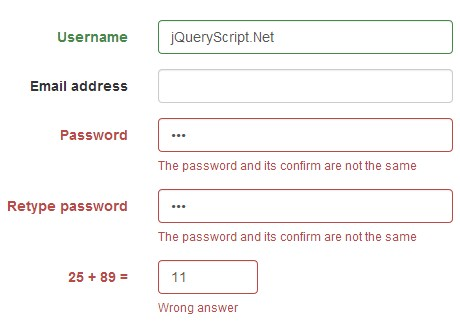error_field: (158, 117, 454, 153), (157, 188, 453, 223), (157, 260, 258, 295)
error_message: (158, 158, 421, 171), (158, 231, 417, 243), (5, 198, 130, 213), (59, 127, 128, 142), (157, 302, 238, 314), (68, 270, 131, 284)
